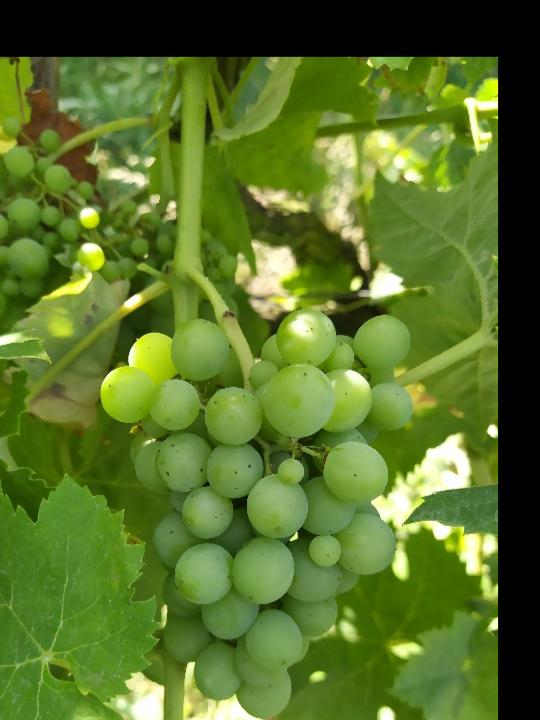grape: (98, 308, 415, 719)
